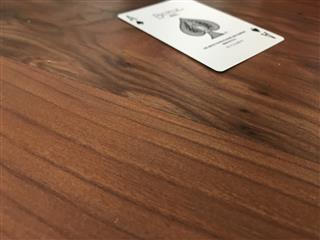AceOfSpades: (116, 1, 285, 72)
